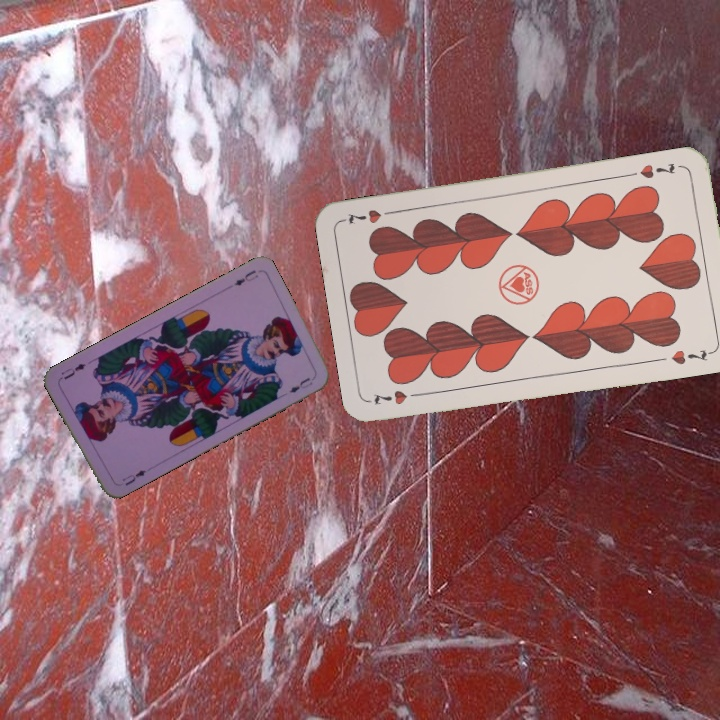EU: (230, 265, 261, 288), (118, 466, 149, 488)
H7: (369, 386, 426, 408), (636, 159, 678, 182)
